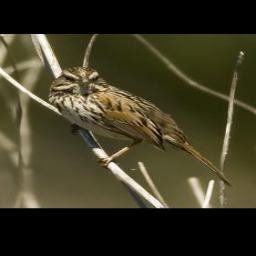Sparrow: (47, 67, 233, 188)
